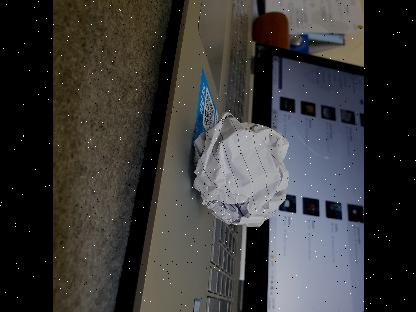Others: (185, 110, 291, 236)
